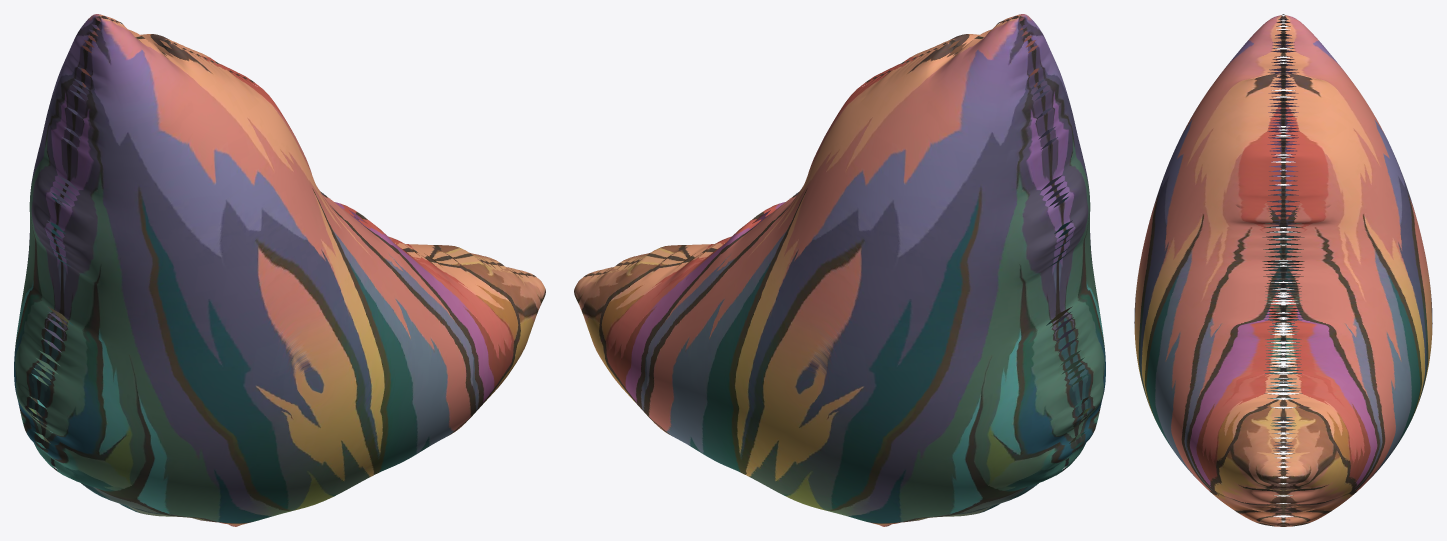
Rendered from west_cliff.glb.
3 views of the same model, side by side, from view 1: azimuth 30°, elevation 25°; view 2: azimuth 150°, elevation 25°; view 3: azimuth 270°, elevation 25° (orthographic). The views are drawn at different scales.
Parts seen in each view (by area): view 1: west_cliff; view 2: west_cliff; view 3: west_cliff.
Boxes of the visible parts, <box> form: west_cliff: <box>14,14,545,526</box>; west_cliff: <box>574,14,1105,526</box>; west_cliff: <box>1134,14,1432,526</box>.
Size of the model in its own units: 0.9887 by 0.9711 by 0.6393.
1 material, 1 textured.
